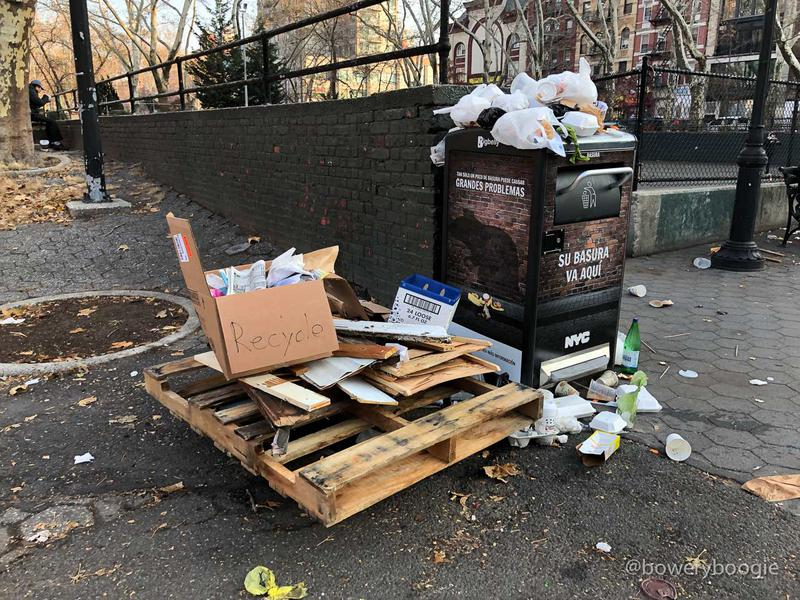bottle: (617, 311, 648, 374)
cardboard: (157, 201, 344, 378), (386, 269, 468, 338), (571, 429, 626, 471)
cup: (660, 427, 694, 466)
plastic: (421, 75, 532, 127), (489, 104, 571, 161), (548, 50, 607, 108)
